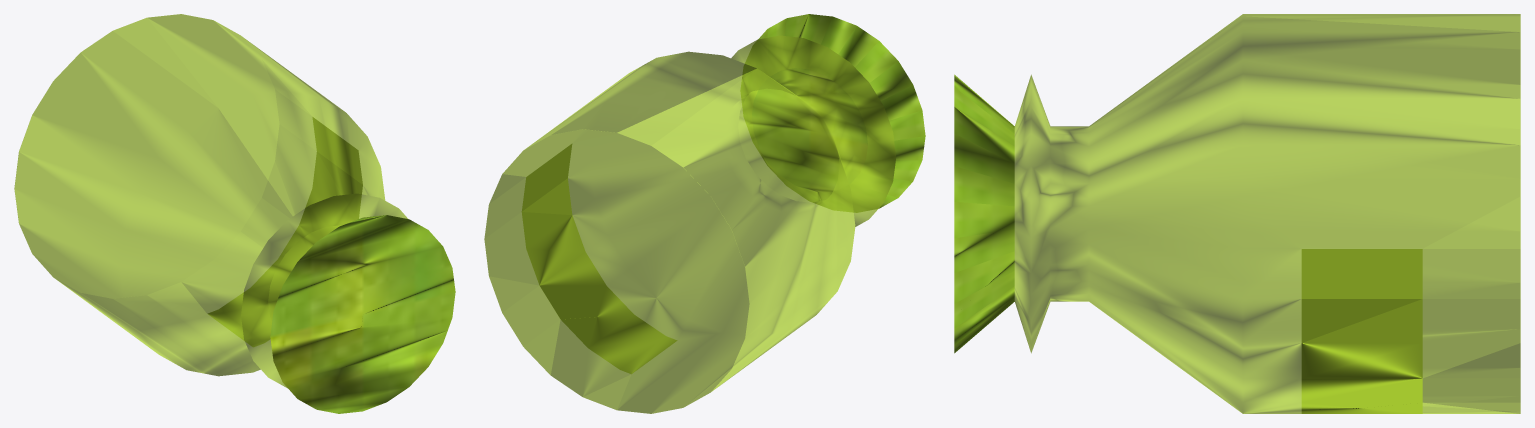
Rendered from model_align.obj.
3 renders of one model, left to right at view 1: azimuth 30°, elevation 25°; view 2: azimuth 150°, elevation 25°; view 3: azimuth 270°, elevation 25°, orthographic. The views are drawn at different scales.
Bounding box in the file's own units: 0.1505 × 0.1505 × 0.2124.
